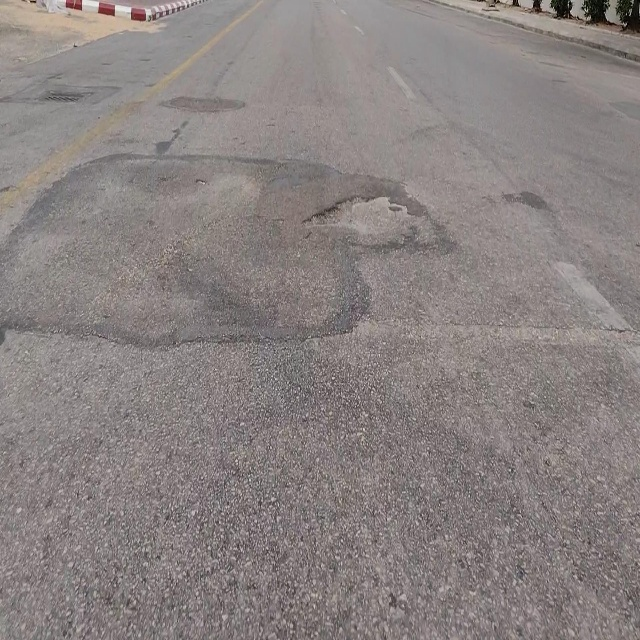pothole: (303, 193, 412, 236)
